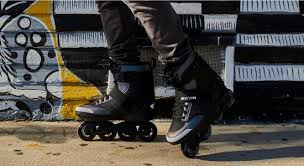roller_blate: (75, 60, 158, 142), (163, 63, 235, 156)
